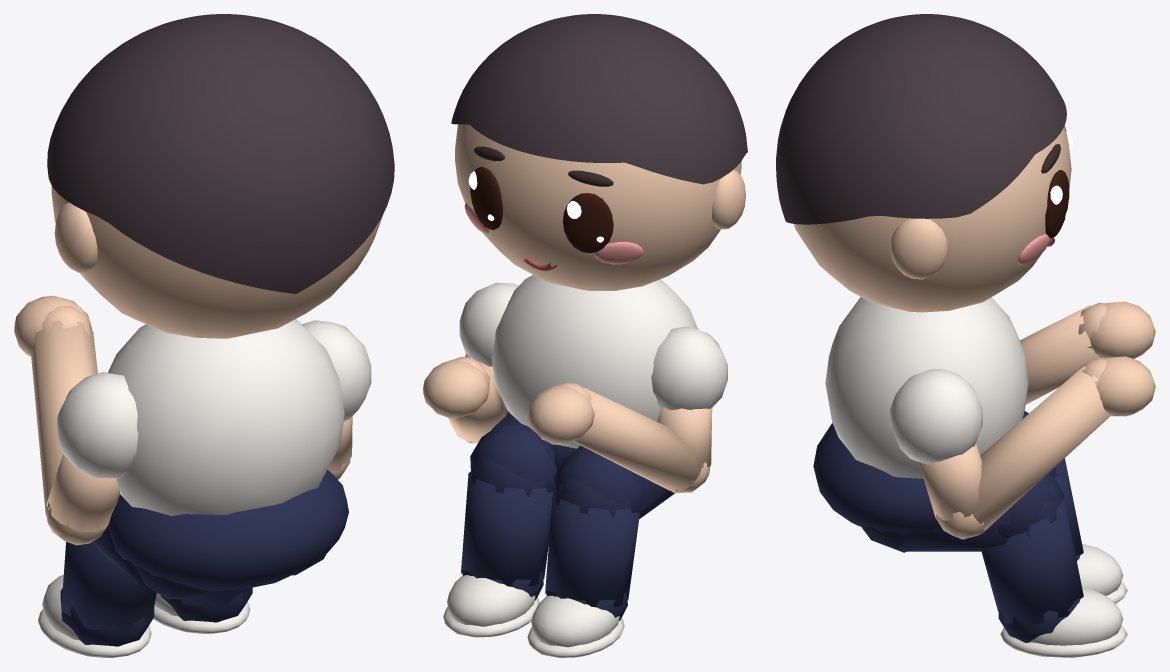
File: player_sit.glb
3 renders of one model, left to right at view 1: azimuth 30°, elevation 25°; view 2: azimuth 150°, elevation 25°; view 3: azimuth 270°, elevation 25°, orthographic. The views are drawn at different scales.
Parts seen in each view (by area): view 1: player_sit; view 2: player_sit; view 3: player_sit.
Part boxes in pixels (x1=…): player_sit: x1=14, y1=14, x2=394, y2=657; player_sit: x1=423, y1=14, x2=747, y2=657; player_sit: x1=776, y1=14, x2=1155, y2=657.
Size of the model in its own units: 0.6293 by 1.21 by 0.698.
